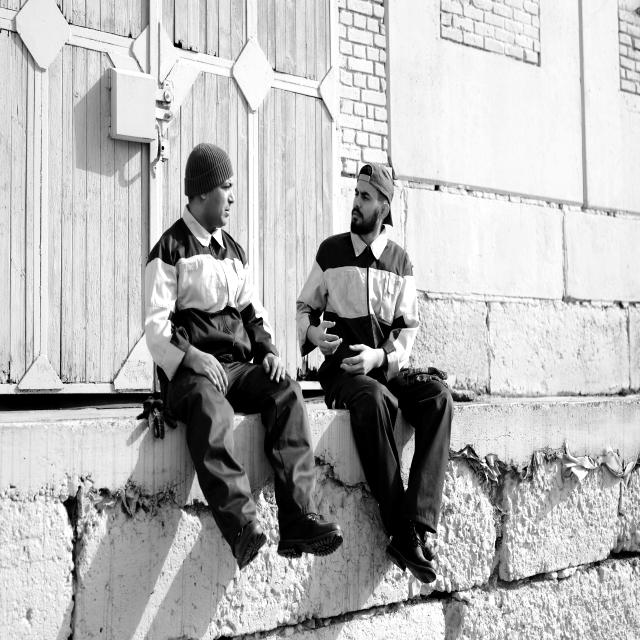Boots: (381, 523, 444, 585), (280, 509, 346, 565), (220, 520, 268, 576)
No-Vest: (153, 227, 258, 376), (319, 235, 413, 378)
